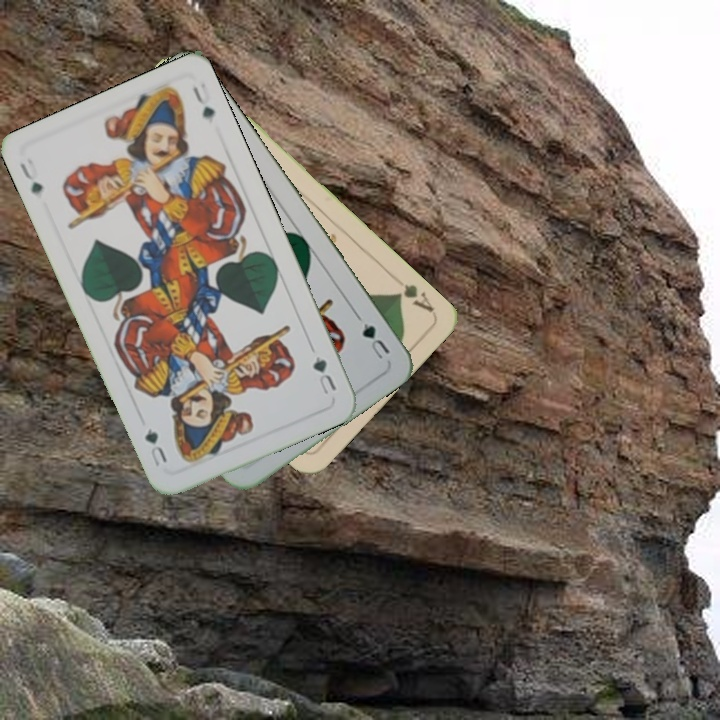GA: (390, 279, 437, 316)
GU: (358, 319, 393, 362), (308, 352, 339, 397), (15, 158, 46, 197)
